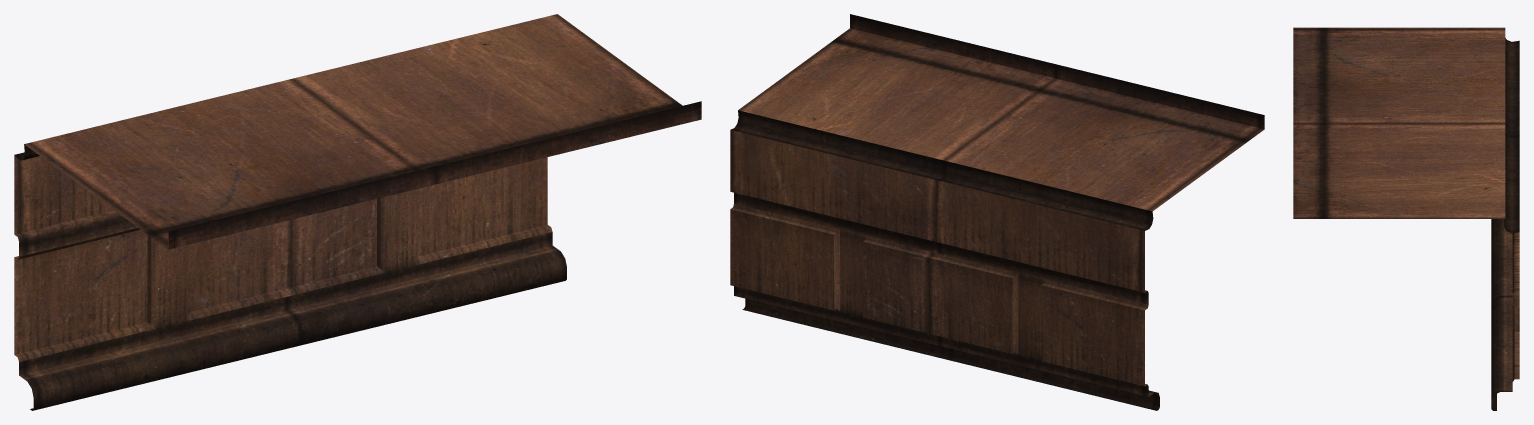
The model's file is concave03.dae.
The picture shows the model from 3 angles, left to right: view 1: azimuth 30°, elevation 25°; view 2: azimuth 150°, elevation 25°; view 3: azimuth 270°, elevation 25°; orthographic projection. The views are drawn at different scales.
Parts seen in each view (by area): view 1: concave; view 2: concave; view 3: concave.
Boxes of the visible parts, <box> form: concave: <box>14,14,701,410</box>; concave: <box>730,14,1264,410</box>; concave: <box>1293,27,1519,410</box>.
Size of the model in its own units: 4 by 2 by 2.
1 material, 1 textured.
